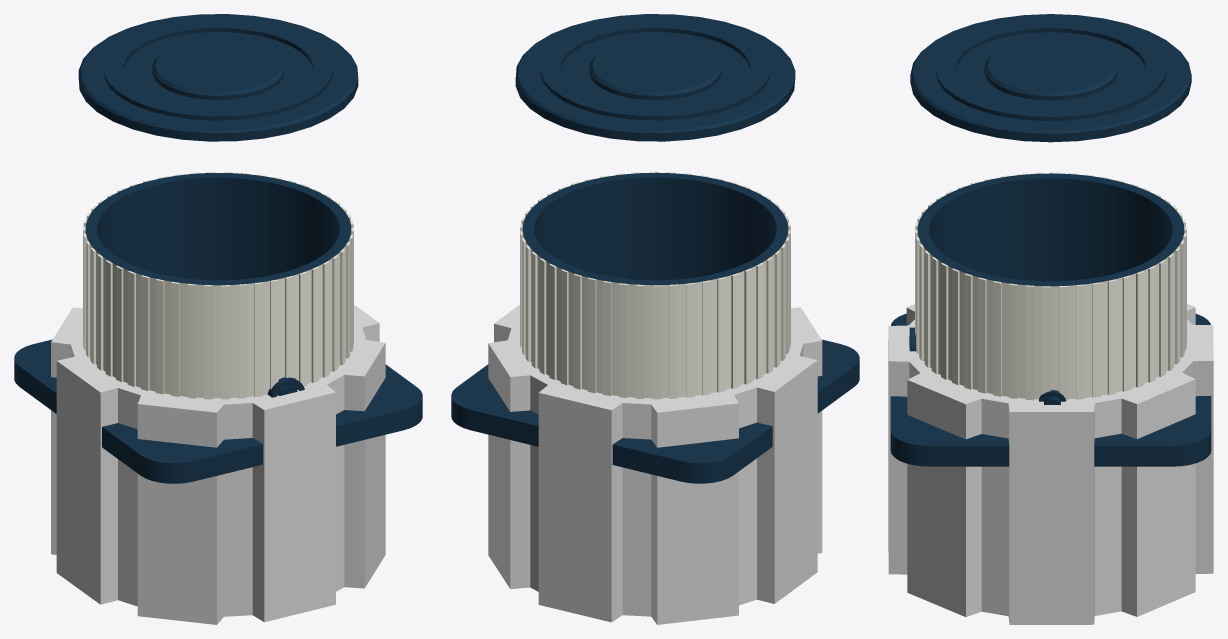
File: 3DMODEL.glb
3 renders of one model, left to right at view 1: azimuth 30°, elevation 25°; view 2: azimuth 150°, elevation 25°; view 3: azimuth 270°, elevation 25°, orthographic.
Visible parts, largest first — view 1: Circle, Cylinder, Circle.001, Cube; view 2: Circle, Cylinder, Circle.001, Cube; view 3: Circle, Cylinder, Circle.001, Cube.
Boxes of the visible parts, <box> form: Circle: <box>51,305,385,624</box>; Cylinder: <box>83,171,353,399</box>; Circle.001: <box>78,14,358,141</box>; Cube: <box>14,339,422,483</box>; Circle: <box>488,304,822,624</box>; Cylinder: <box>520,171,790,399</box>; Circle.001: <box>515,14,795,141</box>; Cube: <box>451,339,859,483</box>; Circle: <box>888,304,1213,624</box>; Cylinder: <box>915,172,1186,400</box>; Circle.001: <box>910,14,1191,142</box>; Cube: <box>890,313,1211,466</box>.
Size of the model in its own units: 2.44 by 4.06 by 2.44.
